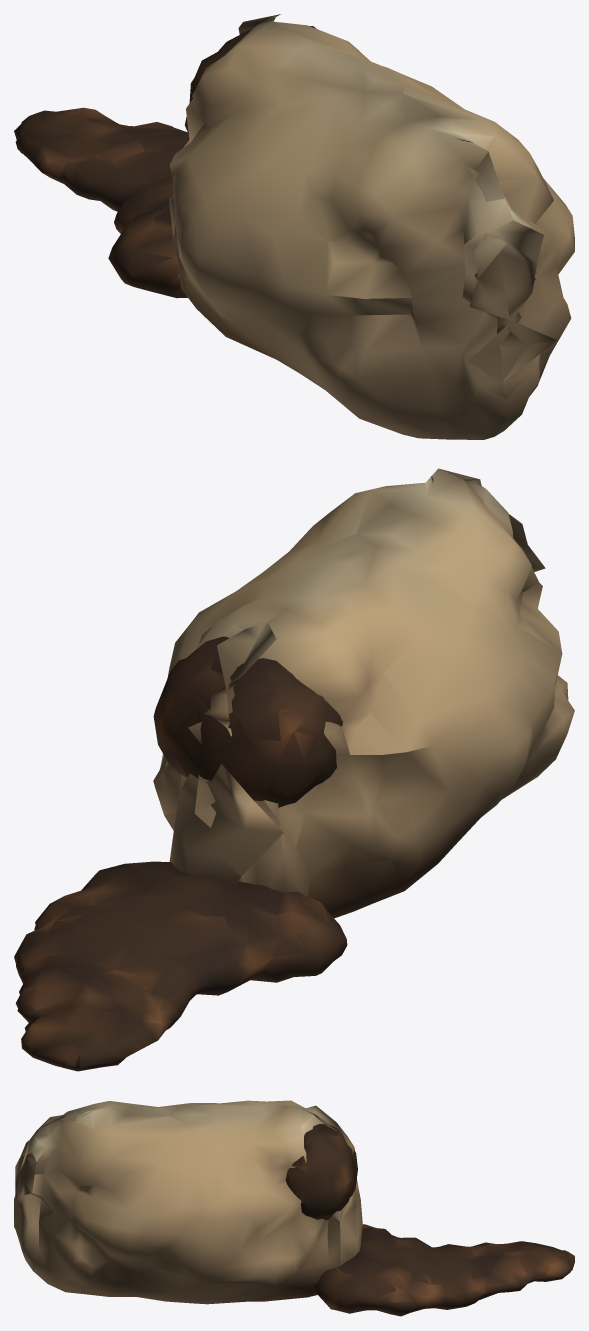
The model's file is canopy_burlap_sack_open_lod1.glb.
3 views of the same model, one above another, from view 1: azimuth 30°, elevation 25°; view 2: azimuth 150°, elevation 25°; view 3: azimuth 270°, elevation 25° (orthographic). The views are drawn at different scales.
Parts seen in each view (by area): view 1: canopy_burlap_sack_open.001; view 2: canopy_burlap_sack_open.001; view 3: canopy_burlap_sack_open.001.
Part boxes in pixels (x1=…): canopy_burlap_sack_open.001: x1=14, y1=14, x2=574, y2=439; canopy_burlap_sack_open.001: x1=14, y1=468, x2=574, y2=1071; canopy_burlap_sack_open.001: x1=14, y1=1100, x2=574, y2=1316.
Bounding box in the file's own units: 6.98 × 6.09 × 16.38.
